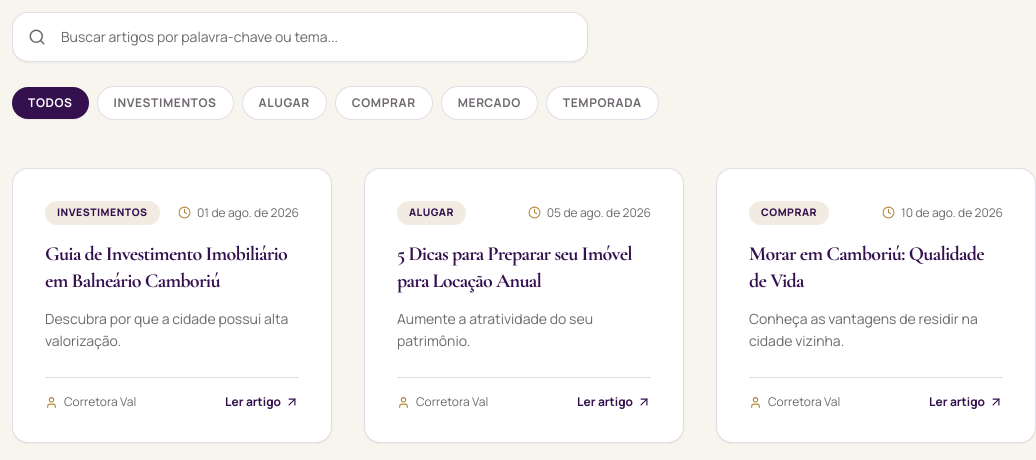
it: BlogClientWrapper — sem flash de carregamento › filtra instantaneamente por categoria sem estado de loading
# Clica em 'Investimentos'
Click the button "Investimentos".
click(165, 103)  # box x1=97 y1=86 x2=234 y2=120
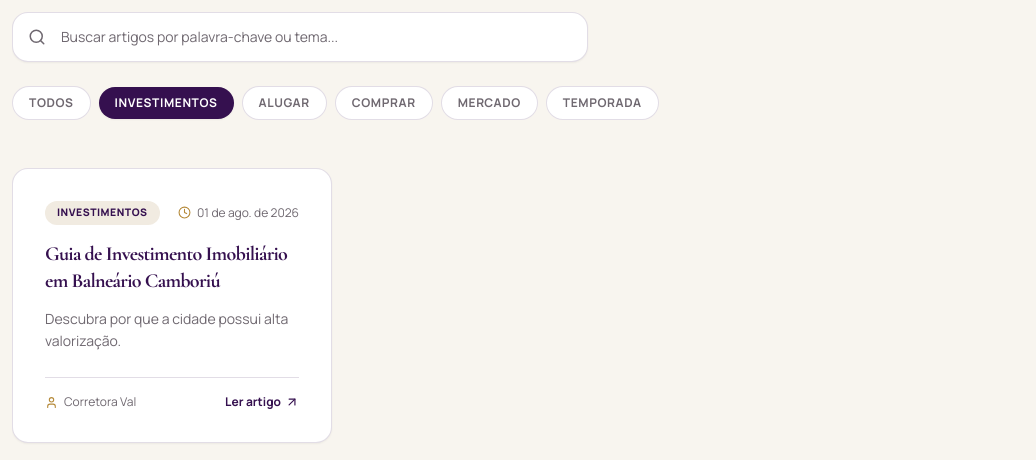
Expected: the heading "Guia de Investimento Imobiliário em Balneário Camboriú" is shown, x1=45 y1=241 x2=299 y2=296
Expected: the link "5 Dicas para Preparar seu Imóvel para Locação Anual" is gone
Expected: the link "Morar em Camboriú: Qualidade de Vida" is gone
# Clica em 'Alugar'
Click the button "Alugar".
click(284, 103)  # box x1=242 y1=86 x2=327 y2=120
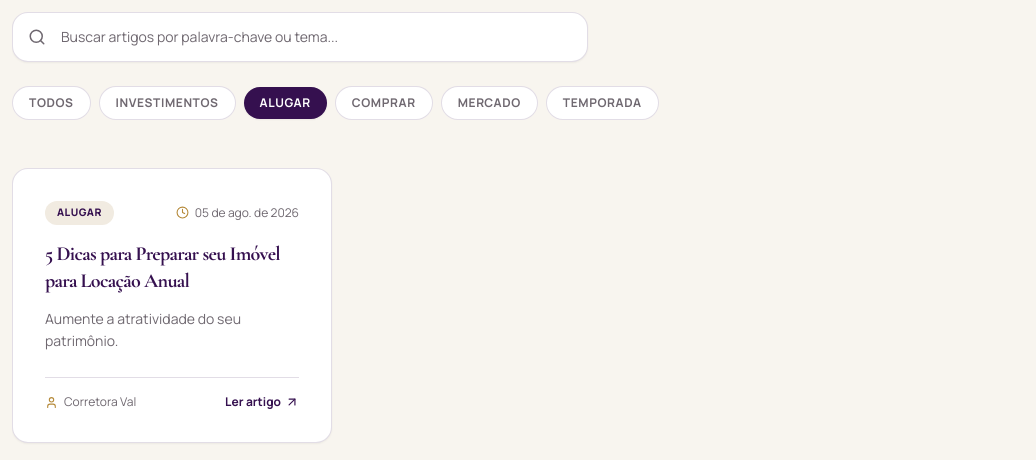
Expected: the heading "5 Dicas para Preparar seu Imóvel para Locação Anual" is shown, x1=45 y1=241 x2=299 y2=296
Expected: the link "Guia de Investimento Imobiliário em Balneário Camboriú" is gone
Click the button "Todos".
click(51, 103)  # box x1=12 y1=86 x2=91 y2=120
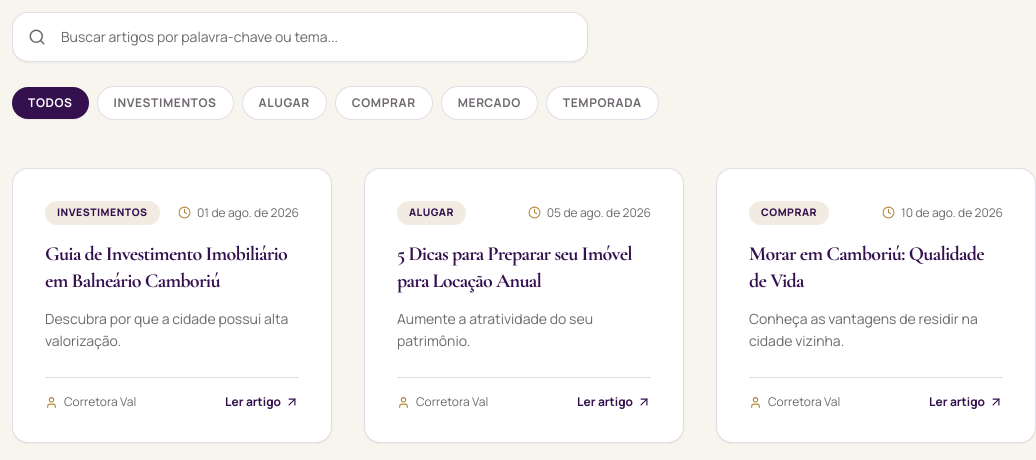
Expected: the heading "5 Dicas para Preparar seu Imóvel para Locação Anual" is shown, x1=397 y1=241 x2=651 y2=296
Expected: the heading "Guia de Investimento Imobiliário em Balneário Camboriú" is shown, x1=45 y1=241 x2=299 y2=296
Expected: the heading "Morar em Camboriú: Qualidade de Vida" is shown, x1=749 y1=241 x2=1003 y2=296
